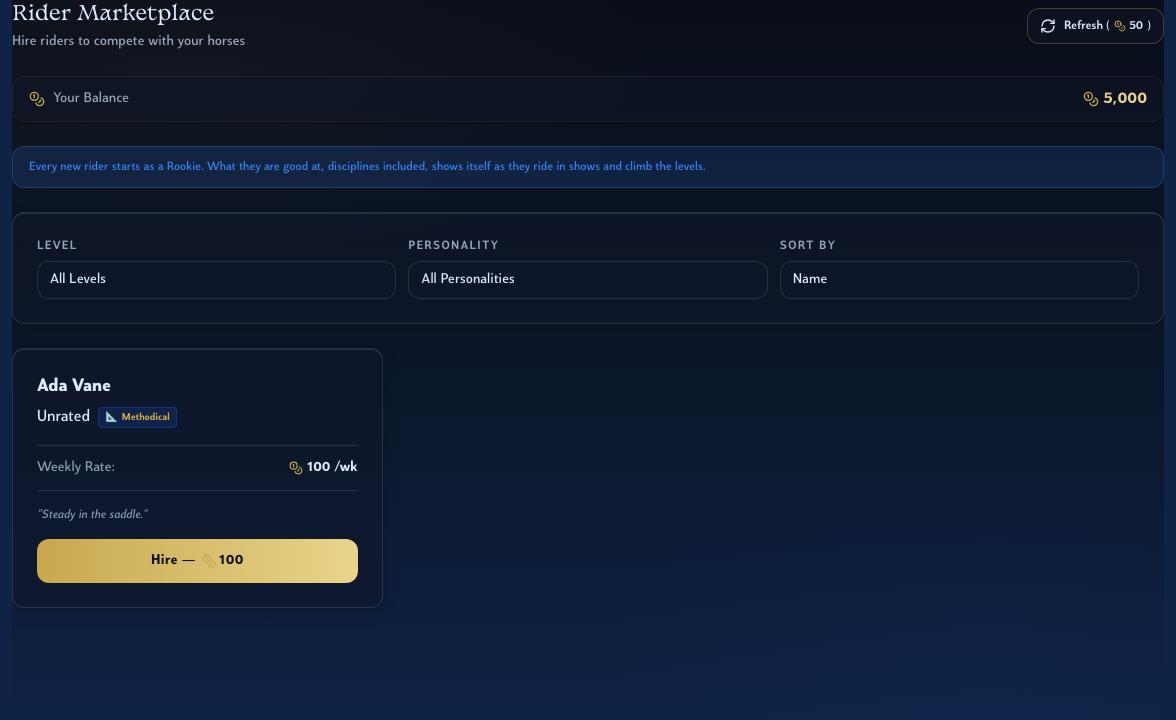
it: RiderList — refusal codes (Equoria-dosig) › a full roster is named as a full roster, not as a short balance
What coordinates should you click on to do the following:
click the button with test id "hire-button-mk-1"
I would click on:
 (197, 561)
Its box is [37, 539, 358, 583].
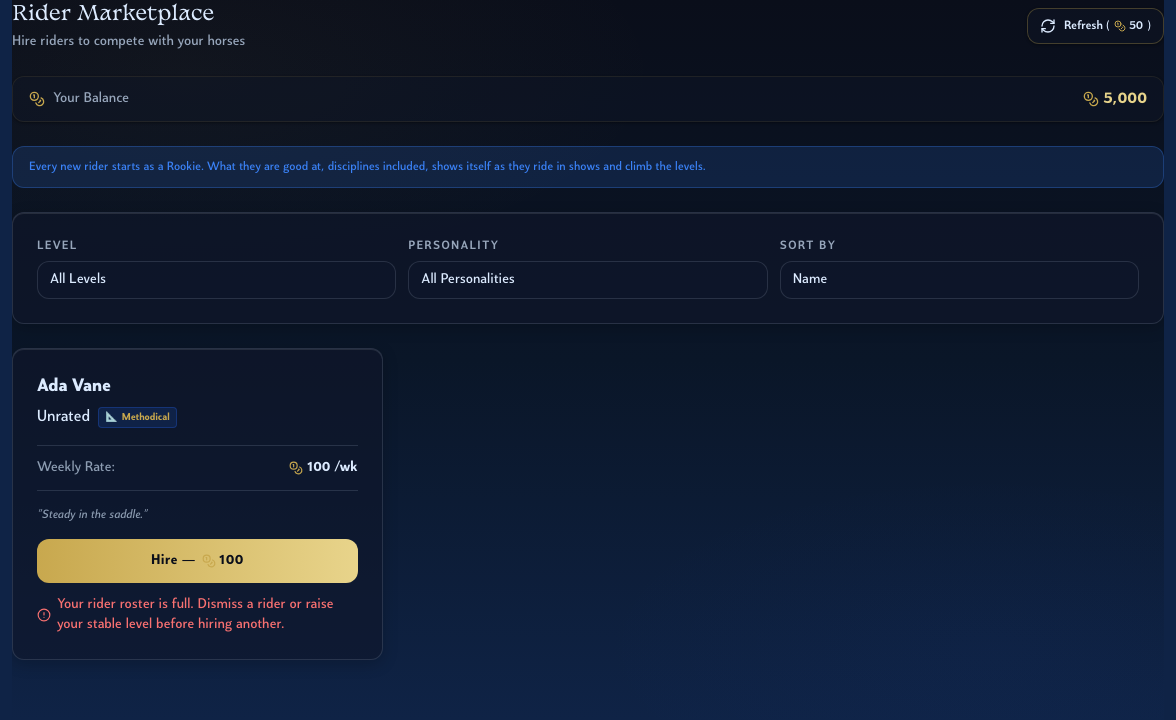
Check: the message does not show "retire", box [37, 595, 358, 635]
Check: the message shows "roster is full", box [57, 597, 334, 632]
Check: the message shows "Dismiss a rider", box [57, 597, 334, 632]
